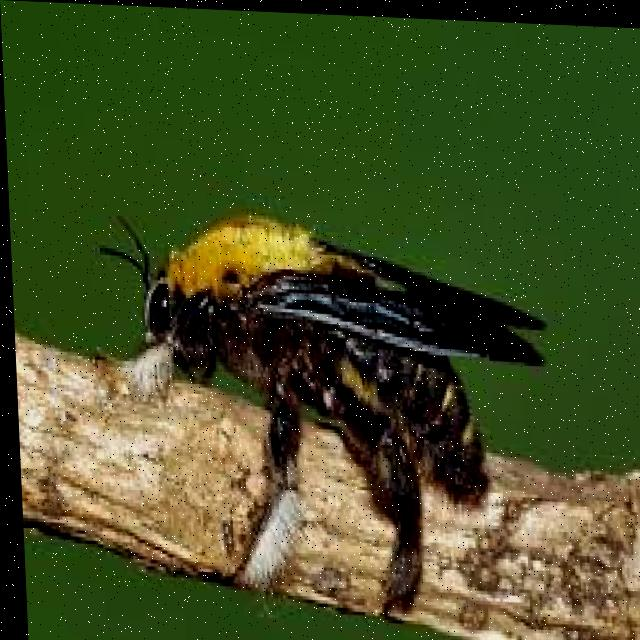Xylocopa: (89, 184, 517, 570)
